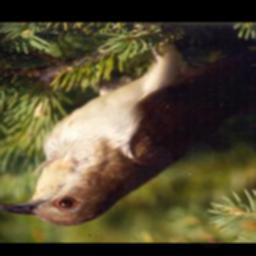Cuckoo: (0, 41, 256, 228)
